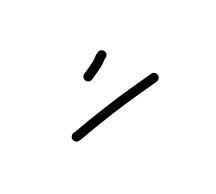i: (72, 40, 121, 92)
